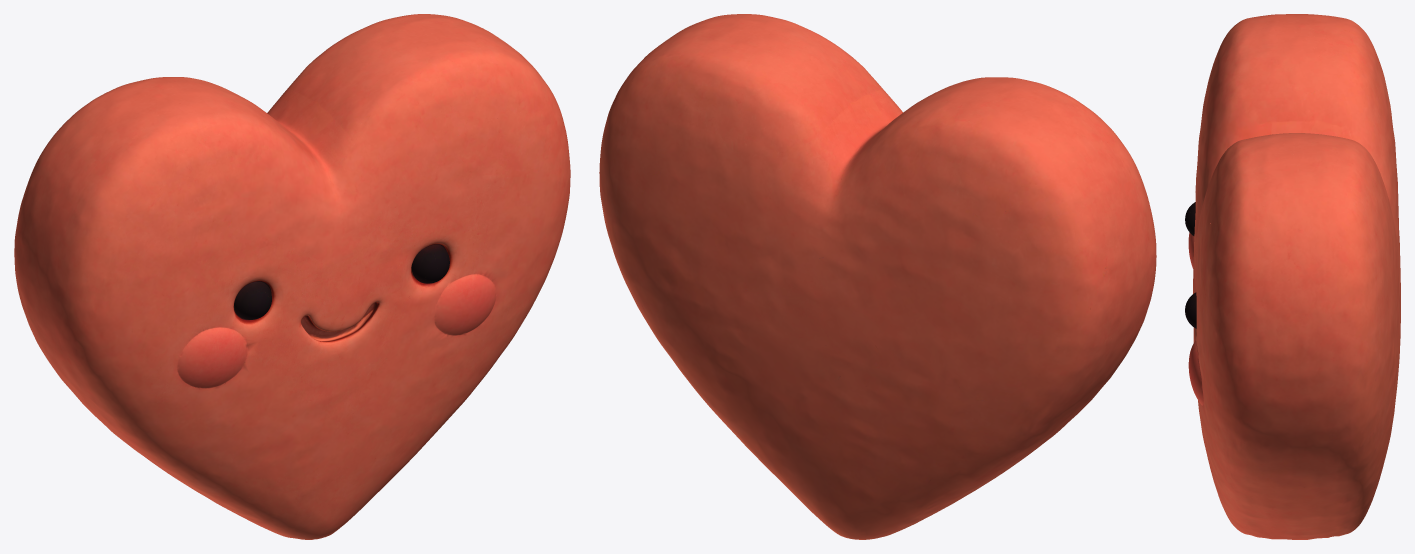
The model's file is cute-love-heart.glb.
3 renders of one model, left to right at view 1: azimuth 30°, elevation 25°; view 2: azimuth 150°, elevation 25°; view 3: azimuth 270°, elevation 25°, orthographic. The views are drawn at different scales.
Parts seen in each view (by area): view 1: cute-love-heart; view 2: cute-love-heart; view 3: cute-love-heart.
Part boxes in pixels (x1,y1,x2,y2): cute-love-heart: (14,14,570,539); cute-love-heart: (599,14,1156,539); cute-love-heart: (1185,14,1400,539).
Size of the model in its own units: 0.12 by 0.1007 by 0.0449.
Materials: 1 (1 with a texture image).
